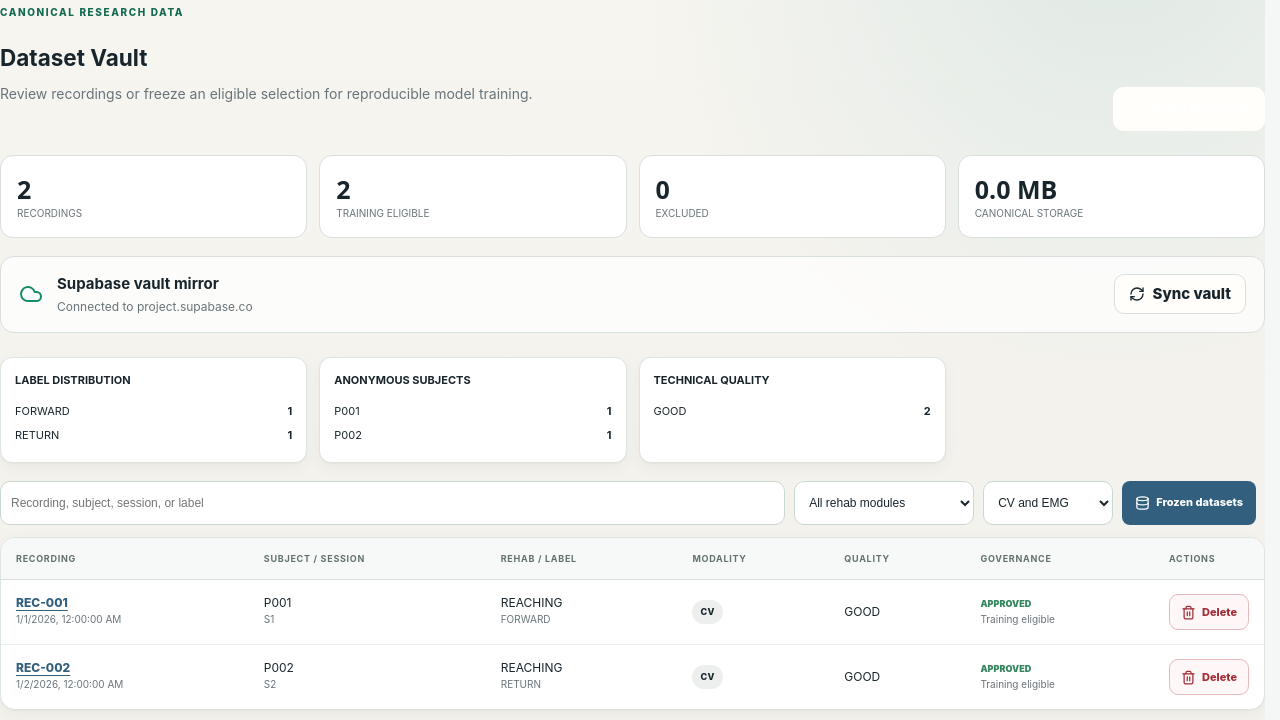
Scenario: Dataset Vault ML selection › shows the private Supabase mirror and syncs the vault
Expected: the text "Connected to project.supabase.co" is shown, [57, 299, 253, 314]
Click the button "Sync vault". click: click(1180, 294)
box: [1114, 274, 1246, 314]
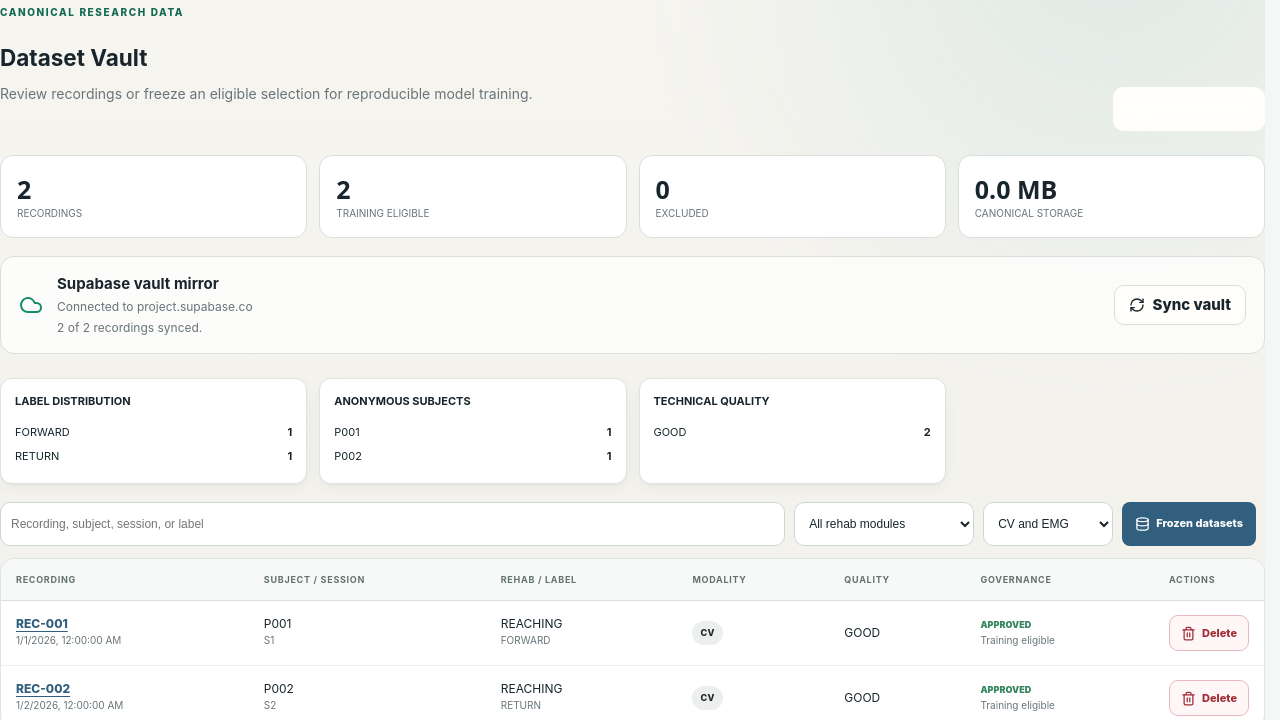
Result: the text "2 of 2 recordings synced." is shown at [57, 320, 202, 335]
